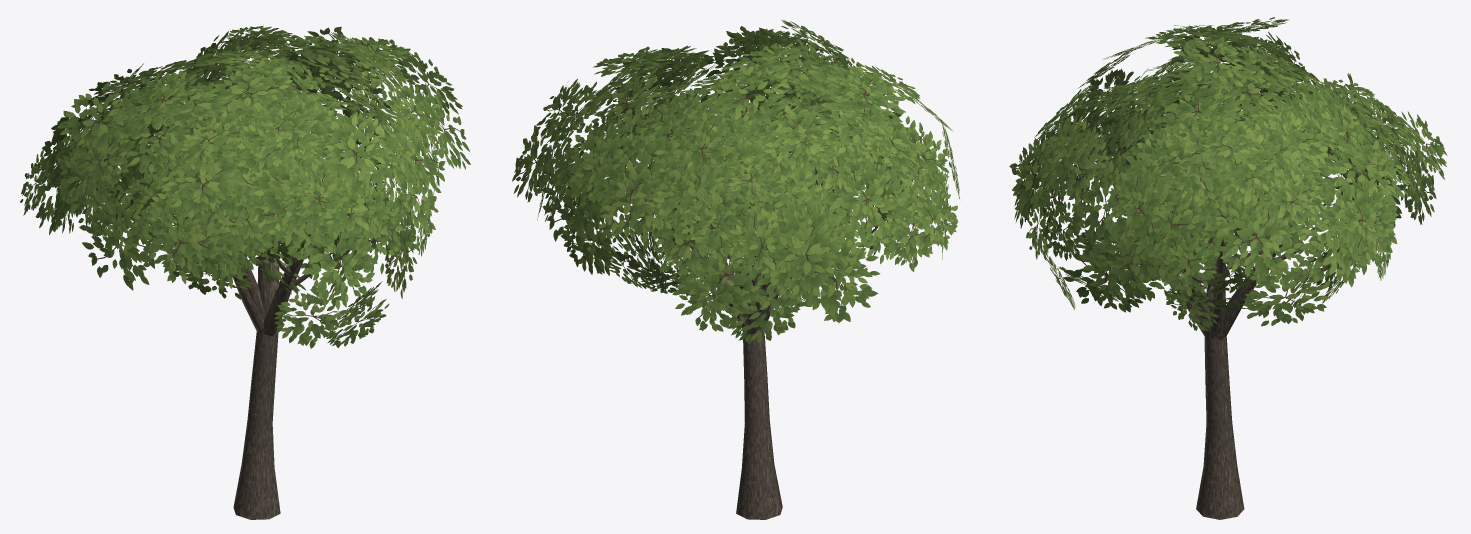
The model's file is Tree_Broad.glb.
The picture shows the model from 3 angles, left to right: view 1: azimuth 30°, elevation 25°; view 2: azimuth 150°, elevation 25°; view 3: azimuth 270°, elevation 25°; orthographic projection.
Visible parts, largest first — view 1: Tree_Broad; view 2: Tree_Broad; view 3: Tree_Broad.
Boxes of the visible parts, box(x1,y1,x2,y2) form: Tree_Broad: box(20, 25, 470, 519); Tree_Broad: box(512, 20, 959, 519); Tree_Broad: box(1009, 17, 1447, 519).
Bounding box in the file's own units: 22.33 × 22.84 × 20.76.
Materials: 2 (2 with a texture image).
